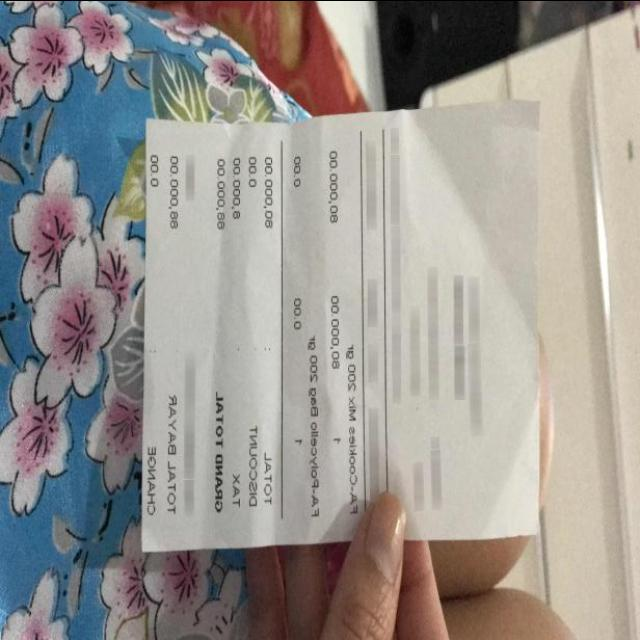kertas: (142, 100, 539, 550)
